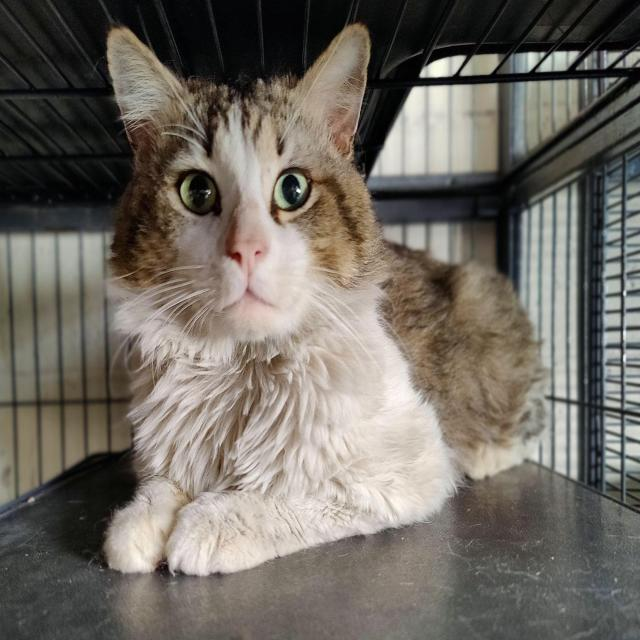maine_coon_cat: (81, 9, 392, 388)
